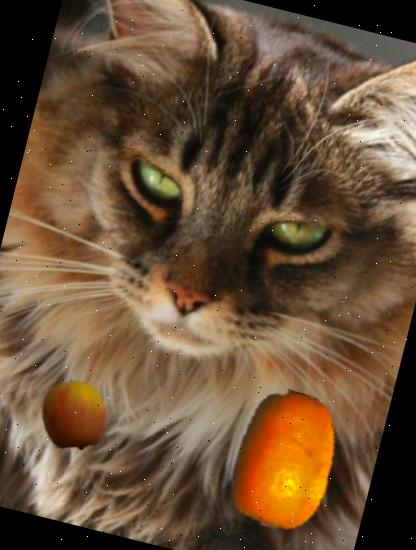Apple: (29, 370, 119, 460)
Kumquats: (201, 376, 369, 544)
